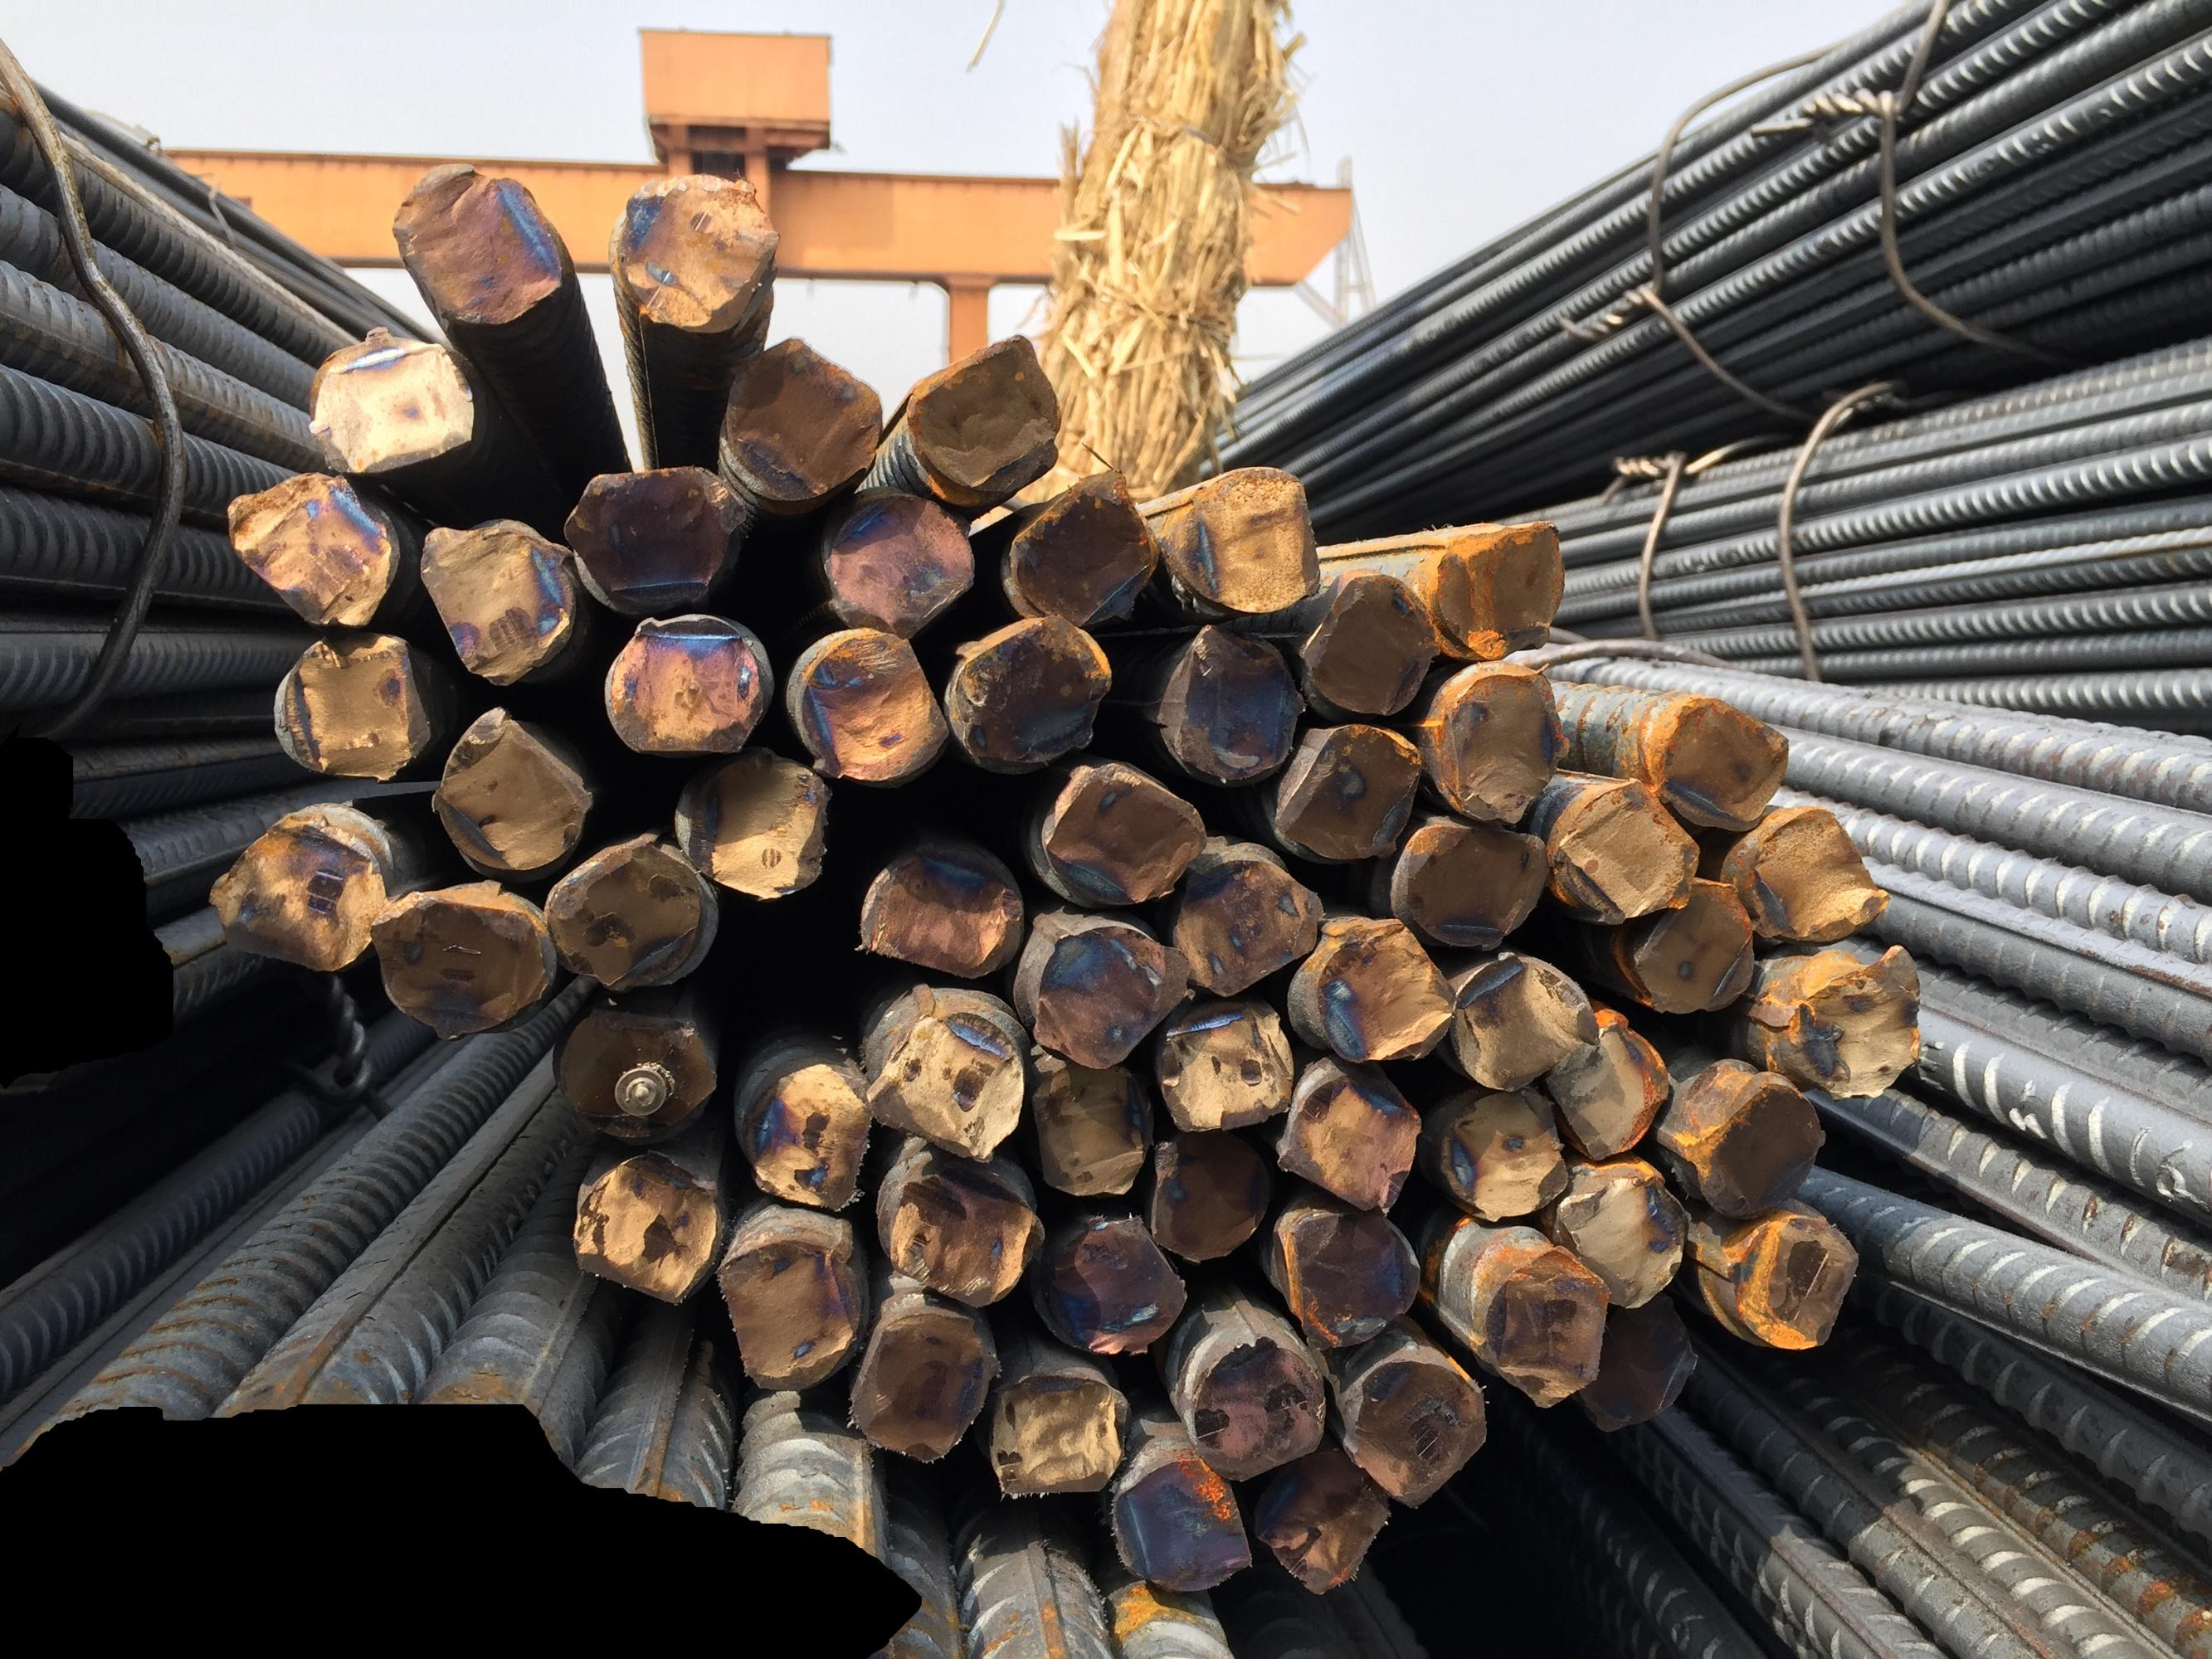bar: (383, 157, 579, 331), (218, 464, 408, 636), (601, 167, 790, 340), (202, 810, 396, 976), (554, 453, 743, 622), (936, 603, 1117, 777), (424, 702, 598, 880), (535, 835, 722, 1000), (364, 877, 553, 1040), (715, 331, 889, 507), (995, 458, 1170, 634), (410, 514, 579, 692), (901, 326, 1070, 500), (671, 741, 847, 906), (302, 322, 485, 481), (838, 1298, 1008, 1469), (1020, 915, 1198, 1077), (565, 1143, 730, 1314), (265, 620, 438, 784), (1149, 619, 1313, 789), (594, 606, 774, 762), (863, 1000, 1030, 1166), (812, 488, 985, 648), (1035, 758, 1215, 911), (1769, 938, 1933, 1105), (546, 999, 725, 1150), (791, 620, 953, 788), (708, 1232, 866, 1401), (847, 835, 1028, 981), (880, 1155, 1048, 1314), (1164, 457, 1325, 620), (1306, 908, 1464, 1072), (1544, 772, 1706, 931), (1442, 943, 1607, 1098), (1163, 850, 1330, 1004), (1731, 800, 1900, 950), (1342, 1351, 1496, 1513), (1604, 866, 1766, 1019), (1670, 1075, 1837, 1223), (1271, 1060, 1428, 1216), (1267, 718, 1431, 868), (736, 1049, 882, 1216), (1288, 565, 1443, 721), (1245, 1439, 1398, 1598), (1539, 1166, 1696, 1319), (1037, 1209, 1196, 1361), (1271, 1199, 1426, 1352), (1103, 1450, 1262, 1598), (1478, 1241, 1614, 1412), (1435, 662, 1572, 829), (1557, 1286, 1706, 1439), (1184, 1331, 1332, 1485), (1645, 692, 1797, 840), (1539, 1009, 1679, 1168), (1428, 516, 1572, 664), (1396, 817, 1553, 953), (1149, 1000, 1300, 1140), (1025, 1051, 1163, 1204), (1431, 1079, 1572, 1225), (981, 1364, 1131, 1502), (1145, 1115, 1278, 1269), (1727, 1209, 1865, 1356)
